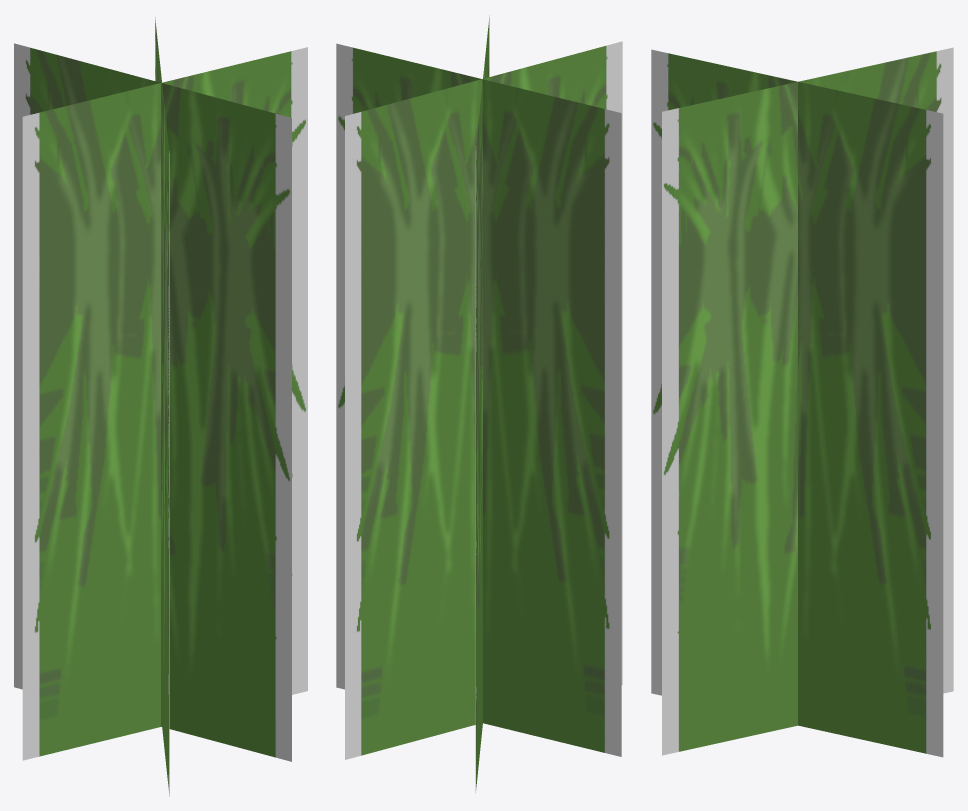
The model's file is GrassStar.FBX.
The picture shows the model from 3 angles, left to right: view 1: azimuth 30°, elevation 25°; view 2: azimuth 150°, elevation 25°; view 3: azimuth 270°, elevation 25°; orthographic projection.
Parts seen in each view (by area): view 1: Plane001; view 2: Plane001; view 3: Plane001.
Boxes of the visible parts, x1=… form: Plane001: x1=14, y1=17, x2=307, y2=796; Plane001: x1=336, y1=15, x2=622, y2=793; Plane001: x1=651, y1=47, x2=953, y2=757.
Size of the model in its own units: 6.64 by 14.32 by 6.1.
